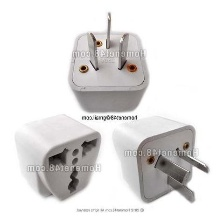three_eye_plug: (109, 111, 214, 207), (68, 8, 152, 114), (11, 116, 102, 203)
